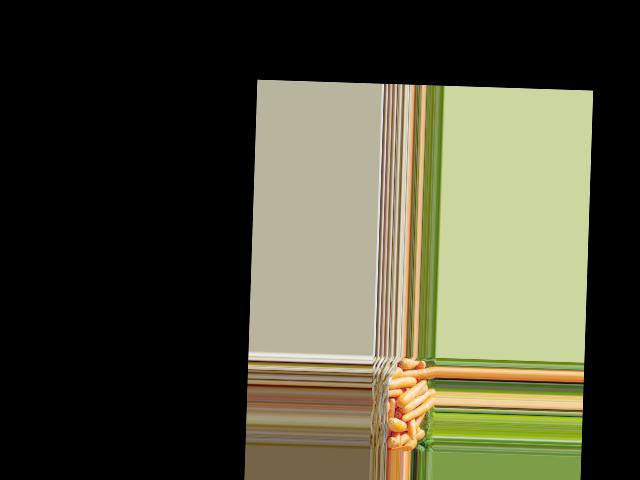carrot: (386, 437, 397, 447)
